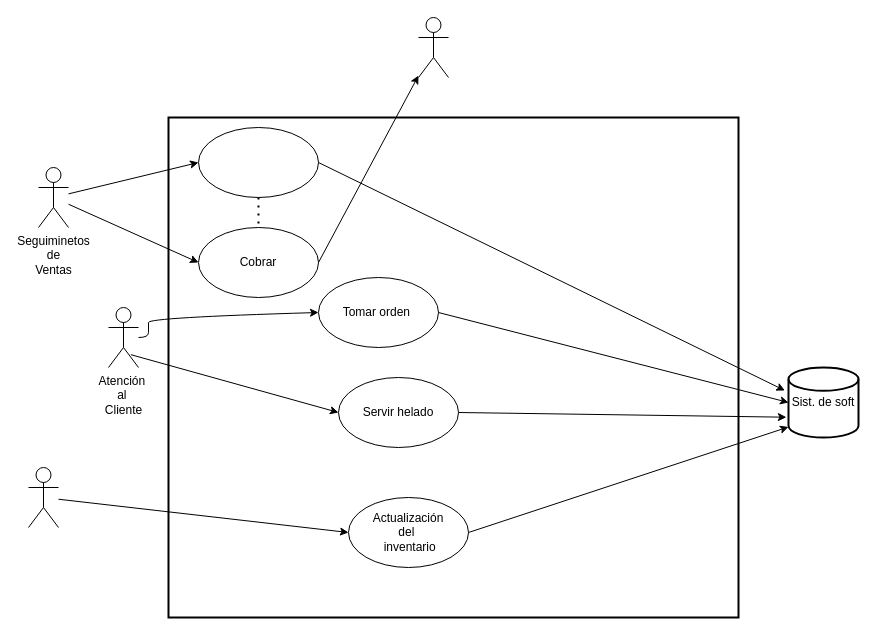
The diagram is 877 pixels wide and 636 high, and some of its shapes have lost their labels. Each missing label, with the centre of its shape:
"Cliente" goes at (x=433, y=47).
"Gestion de Inventario" goes at (x=43, y=497).
"Reporte de ventas" goes at (x=258, y=162).
